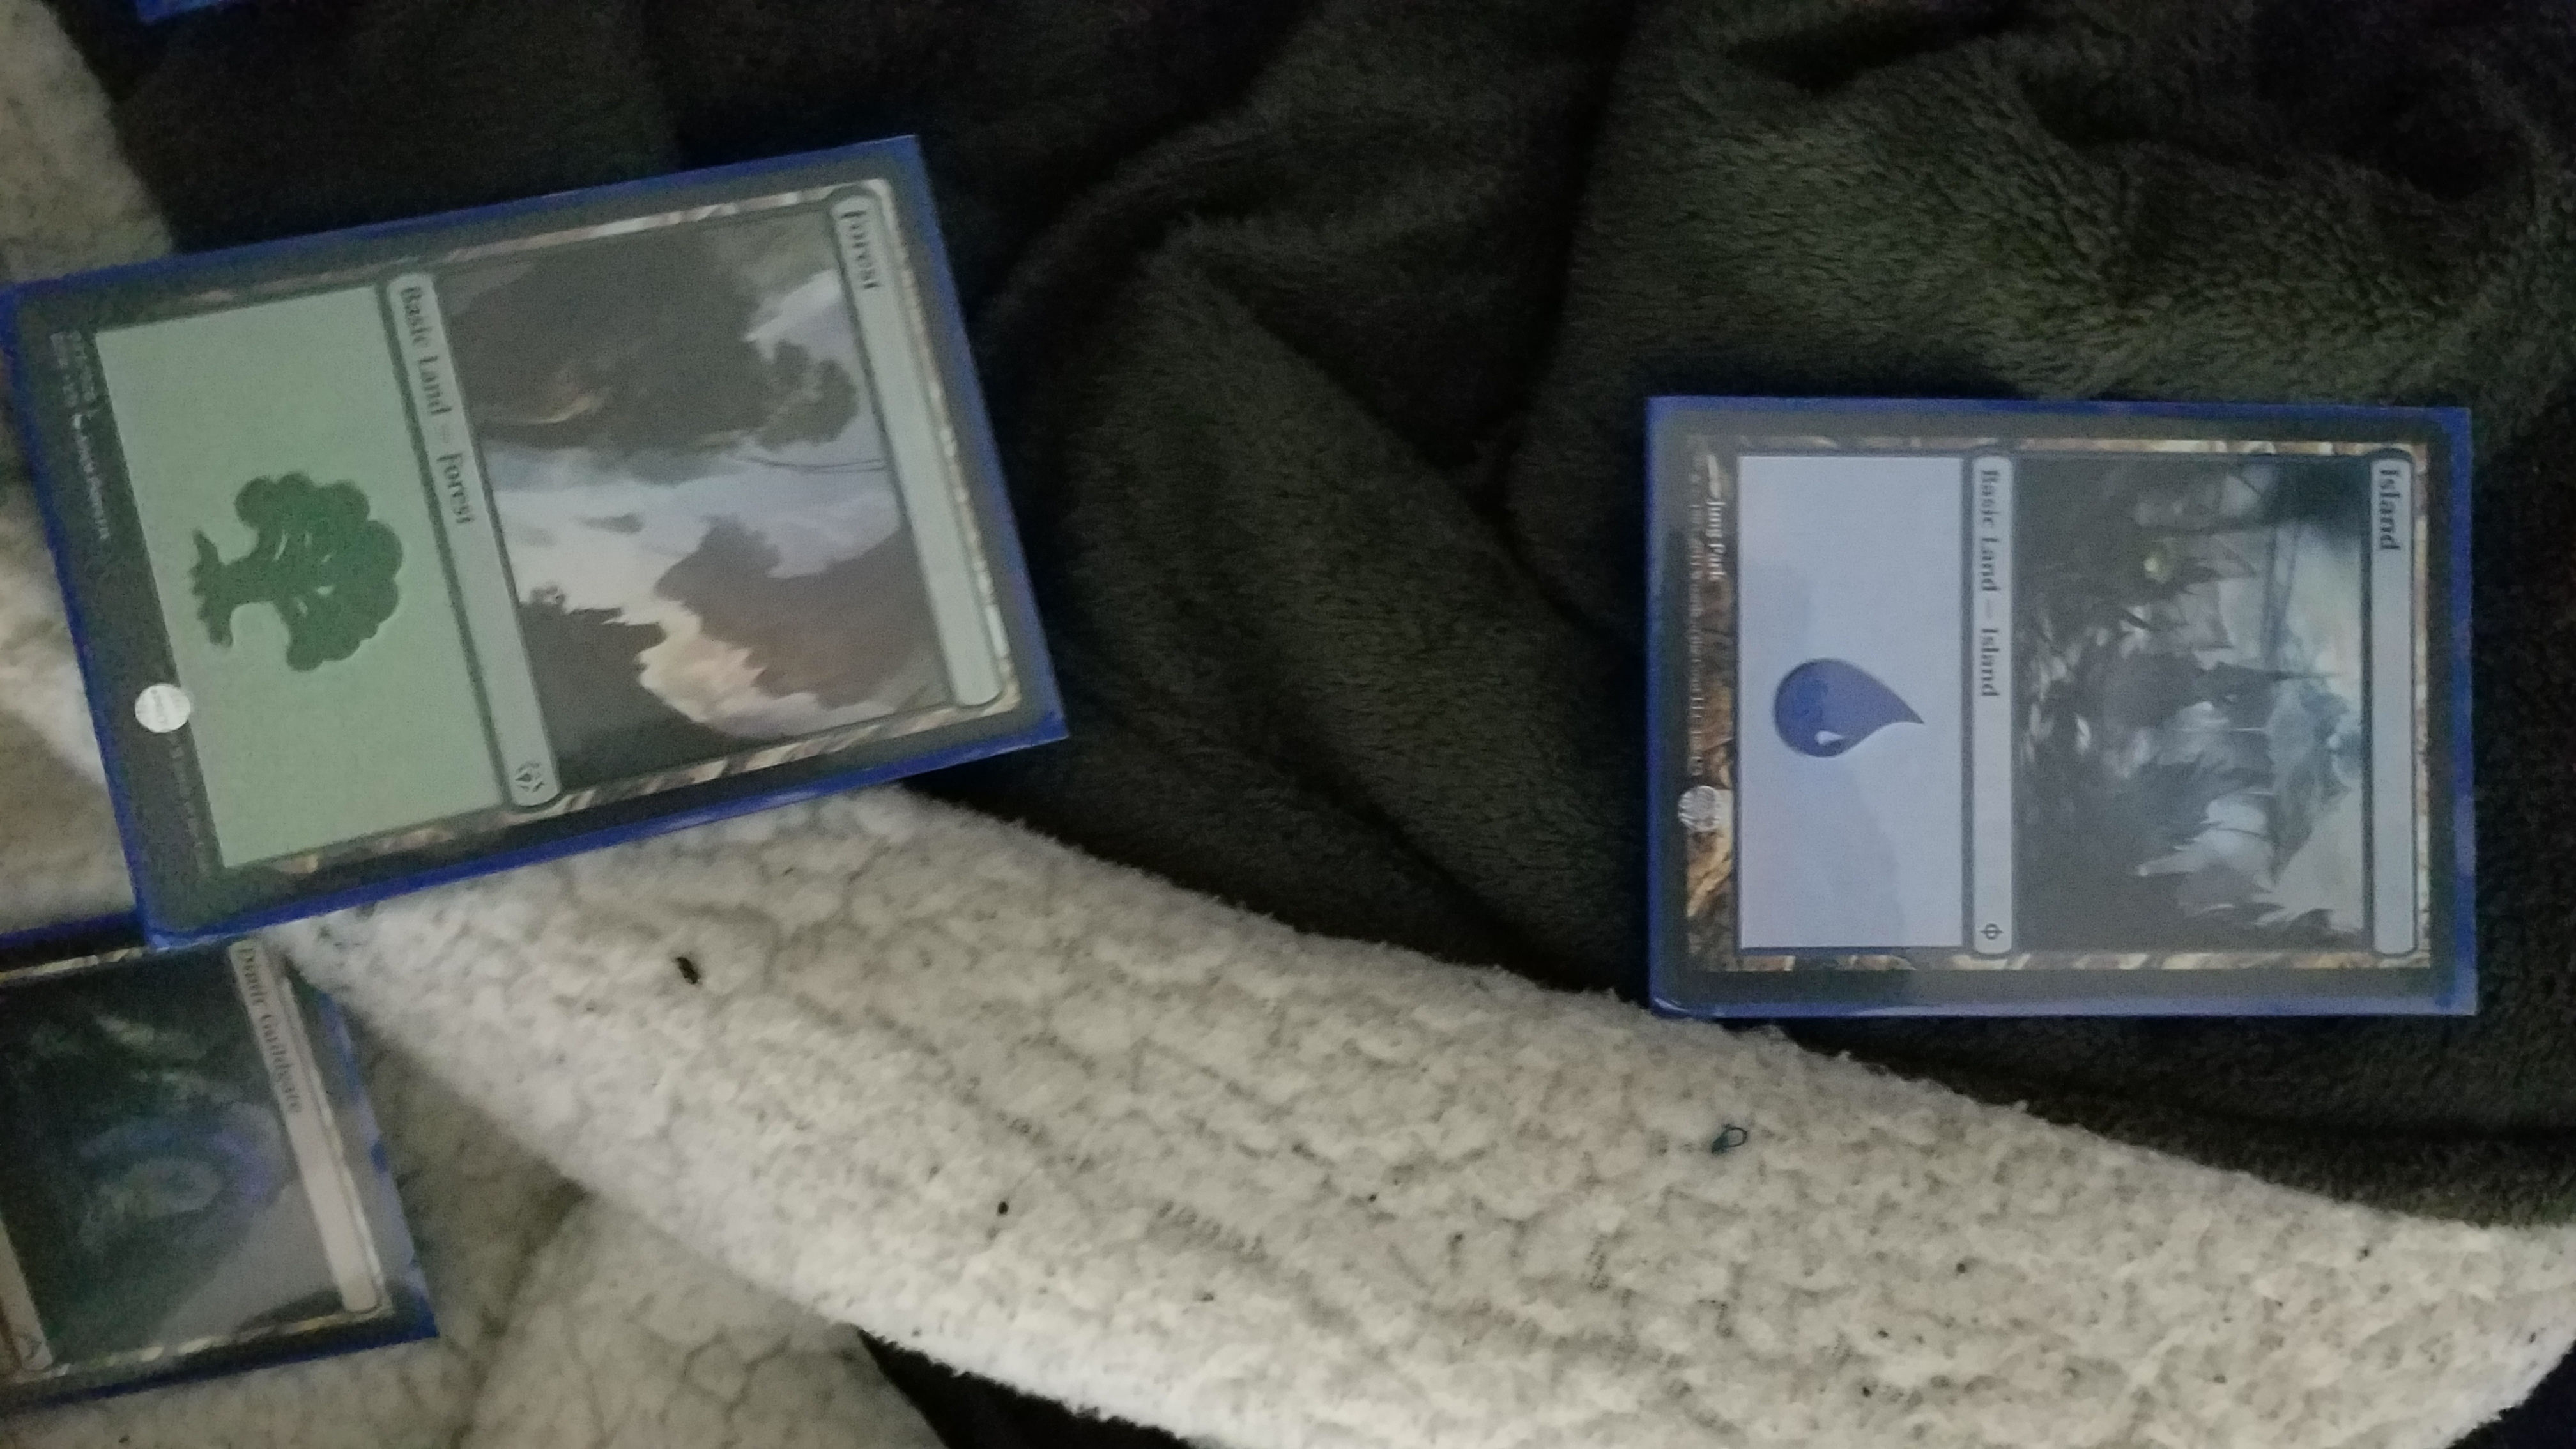Card: (0, 147, 1044, 925), (1661, 393, 2480, 1024), (0, 924, 423, 1424)
